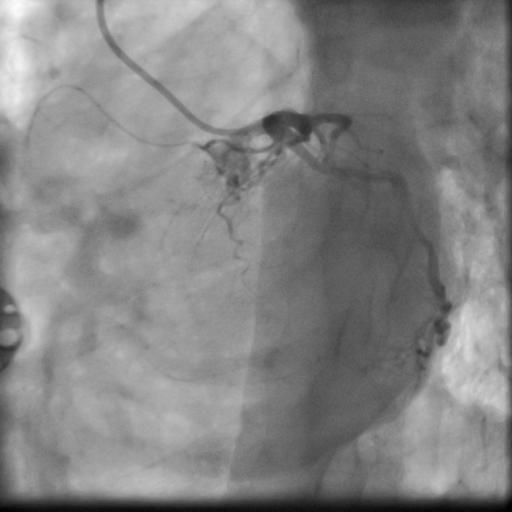Stenosis: (403, 210, 427, 242)
